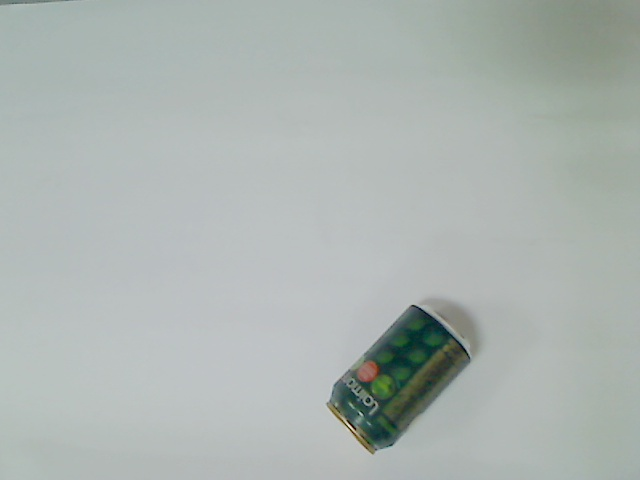can: (325, 299, 477, 457)
